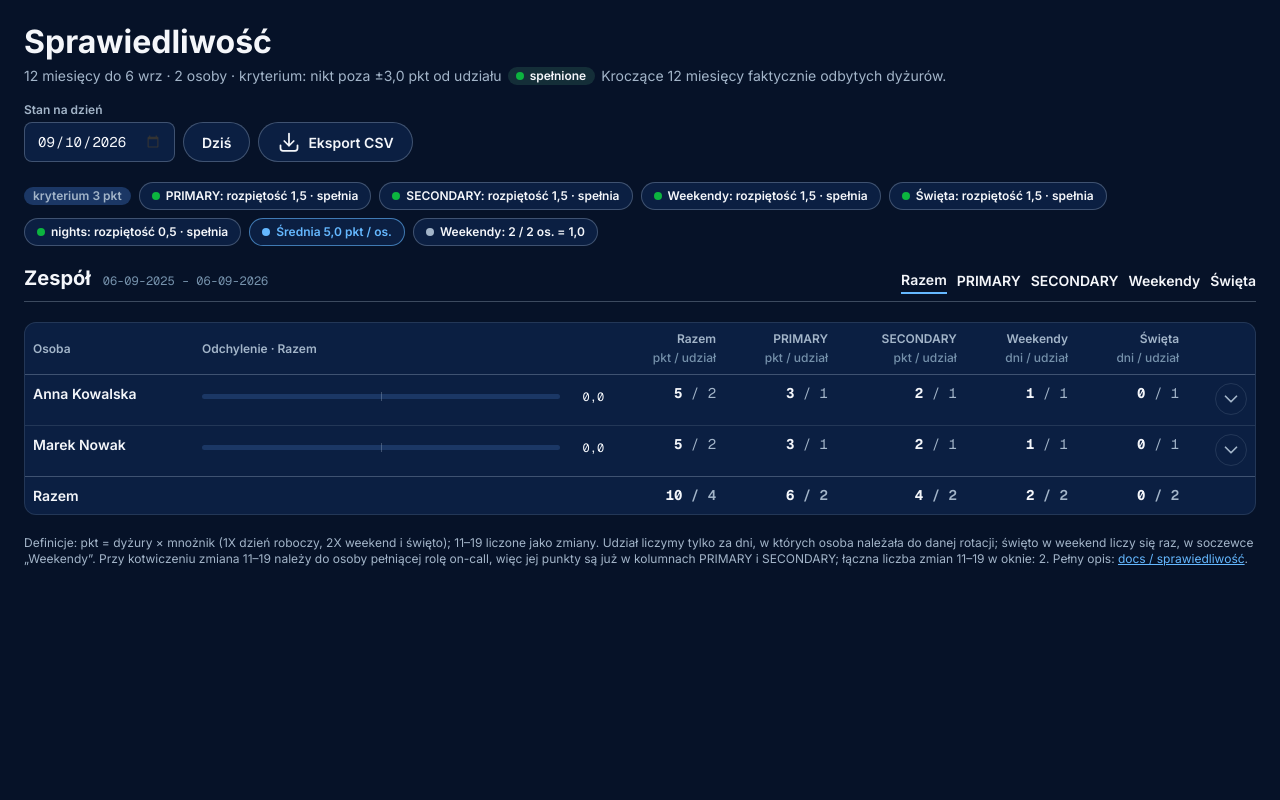
Test: FairnessPanel report states › switches the lens from a spread chip and names a lens it does not know by its key
Expected: the button "nights: rozpiętość 0,5 · spełnia" is shown, x1=24 y1=218 x2=241 y2=246
Click the button "PRIMARY: rozpiętość 1,5 · spełnia": (255, 196) x1=139 y1=182 x2=371 y2=210
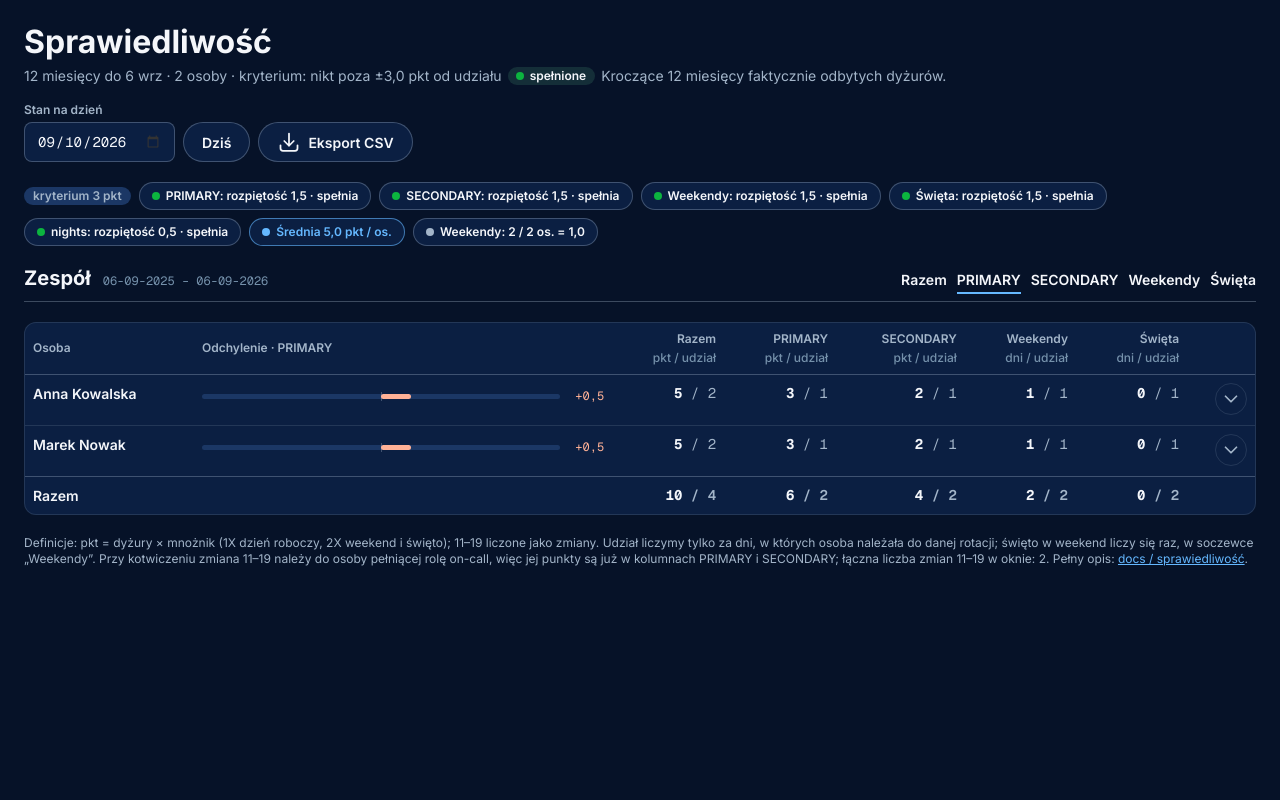
Expected: the button "PRIMARY" is shown, x1=957 y1=268 x2=1021 y2=294
Now the column heading "Odchylenie · PRIMARY" is shown, box x1=194 y1=322 x2=612 y2=374
